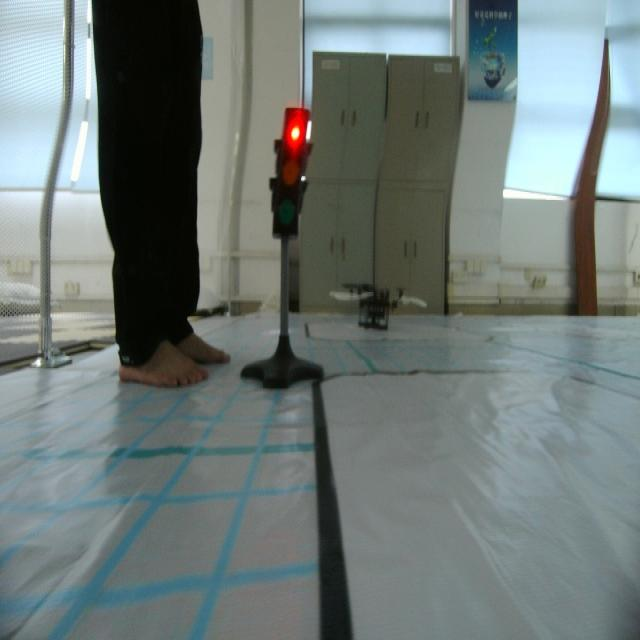red: (268, 101, 311, 246)
